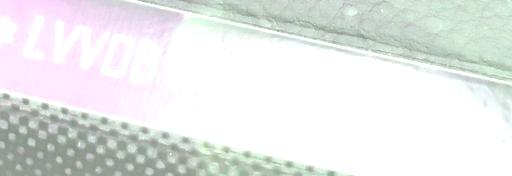letter: (258, 67, 298, 115), (324, 84, 358, 130), (296, 75, 328, 121), (467, 111, 497, 160), (53, 18, 83, 67), (233, 61, 263, 109), (102, 32, 134, 77), (83, 25, 111, 76), (131, 39, 161, 84), (199, 54, 229, 96), (409, 99, 435, 146), (24, 14, 48, 61), (382, 95, 408, 138), (438, 109, 464, 152), (360, 90, 380, 135), (164, 47, 184, 91), (186, 51, 204, 93)
